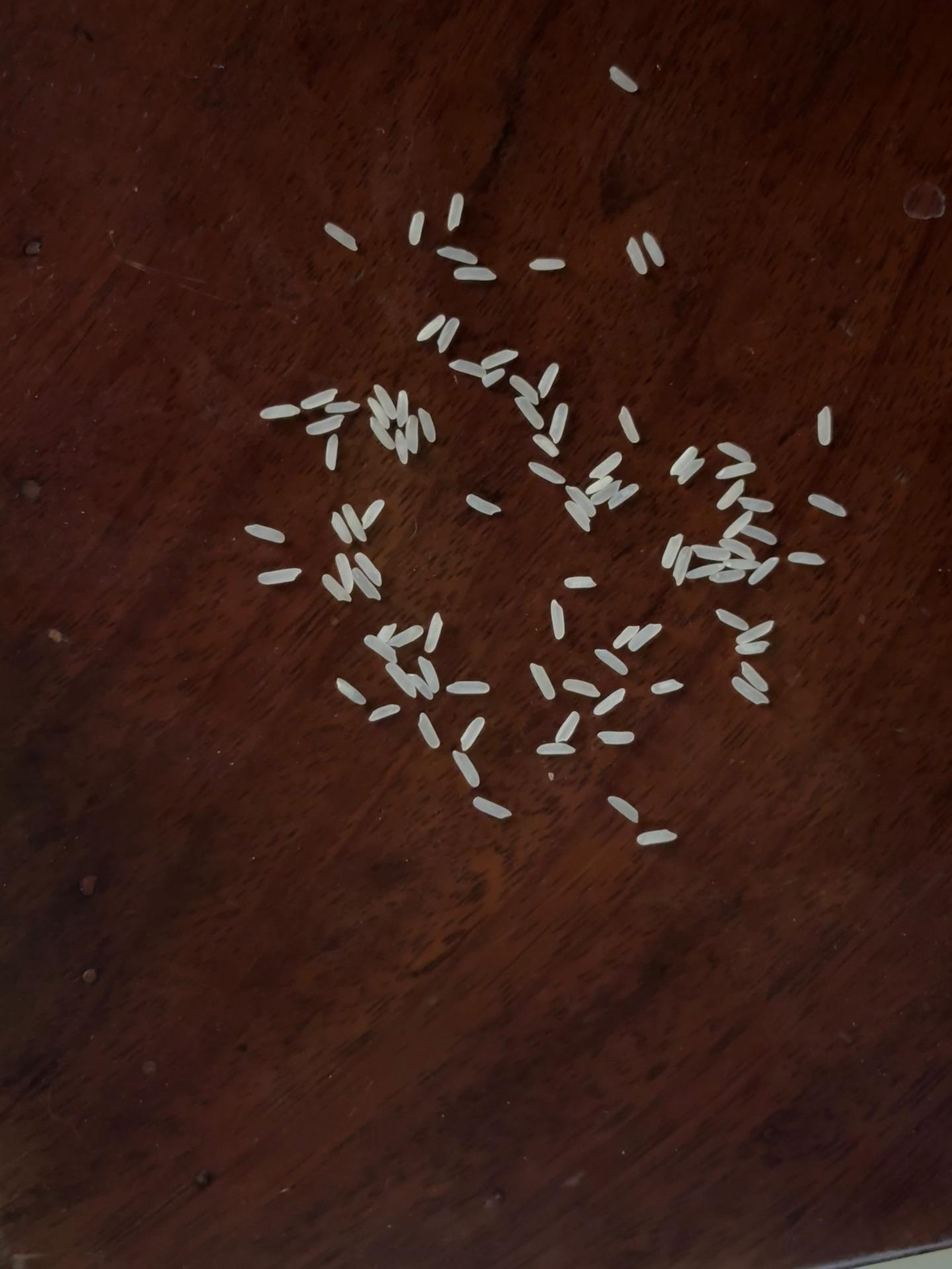Rice-th-y-nh: (385, 662, 416, 699), (451, 749, 480, 787), (565, 485, 598, 518), (363, 635, 399, 664), (732, 677, 769, 705), (529, 662, 556, 700), (323, 222, 358, 251), (341, 503, 367, 542), (670, 546, 695, 586), (628, 623, 662, 652), (716, 479, 746, 511), (594, 648, 629, 675), (459, 716, 486, 751), (509, 374, 539, 405), (515, 397, 544, 429), (352, 568, 381, 600), (593, 688, 626, 716), (355, 553, 383, 586), (333, 554, 356, 594), (588, 452, 622, 479), (417, 656, 441, 694), (740, 661, 769, 692), (722, 511, 753, 540), (669, 446, 698, 477), (808, 494, 847, 517), (748, 557, 780, 585), (590, 479, 622, 507), (368, 417, 395, 450), (554, 711, 581, 744), (624, 238, 648, 275), (736, 621, 774, 644), (321, 574, 351, 603), (608, 795, 639, 823), (335, 678, 367, 705), (417, 713, 441, 749), (373, 384, 397, 420), (720, 537, 756, 561), (472, 797, 511, 819), (617, 406, 640, 443), (660, 534, 684, 569), (547, 599, 568, 639), (564, 501, 591, 532), (306, 414, 344, 436), (608, 484, 640, 510), (677, 457, 706, 485), (416, 315, 446, 342), (437, 318, 460, 353), (388, 625, 423, 648), (245, 524, 285, 544), (549, 403, 569, 443), (301, 388, 337, 410), (529, 462, 565, 484), (609, 66, 638, 93), (424, 613, 444, 652), (437, 246, 478, 265), (537, 363, 559, 398), (643, 232, 665, 267), (407, 673, 434, 701), (466, 494, 500, 516), (742, 524, 777, 545), (258, 568, 301, 585), (716, 461, 756, 479), (367, 397, 390, 428), (716, 609, 748, 631), (481, 349, 518, 368), (563, 679, 600, 698), (692, 544, 731, 562), (361, 499, 385, 528), (453, 265, 496, 281), (450, 359, 486, 378), (738, 495, 774, 514), (403, 415, 421, 453), (330, 513, 352, 544), (718, 442, 752, 462), (816, 406, 833, 445), (636, 829, 677, 845), (612, 625, 639, 649), (393, 391, 411, 427), (417, 408, 436, 442), (447, 680, 490, 695), (687, 562, 724, 579), (447, 194, 464, 231), (533, 434, 560, 457), (536, 741, 576, 756), (710, 567, 745, 584), (260, 404, 299, 419), (597, 730, 635, 745), (408, 212, 425, 245), (651, 678, 684, 695), (725, 556, 760, 572), (394, 430, 410, 464), (585, 476, 613, 495), (369, 704, 400, 721), (529, 257, 565, 271), (735, 641, 770, 655), (788, 552, 825, 565), (325, 401, 360, 414), (325, 435, 338, 470), (482, 368, 505, 387), (377, 623, 397, 643), (564, 576, 596, 588)
